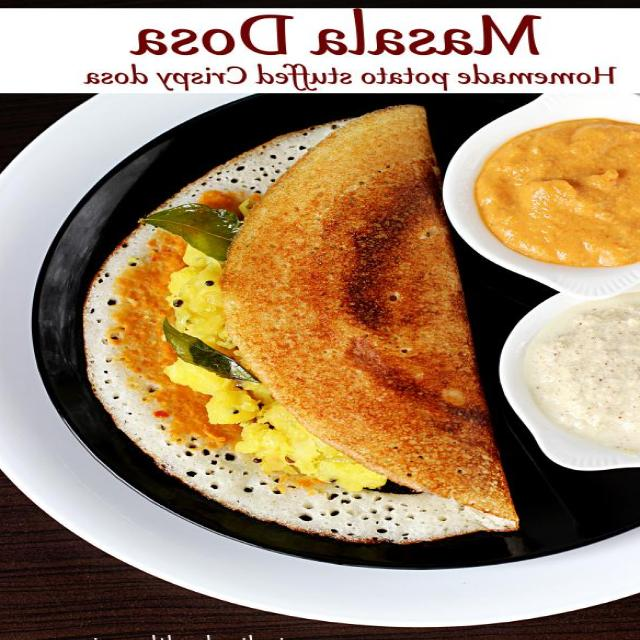chutney: (460, 117, 640, 261), (519, 288, 640, 488)
masala_dosa: (72, 130, 438, 549)
